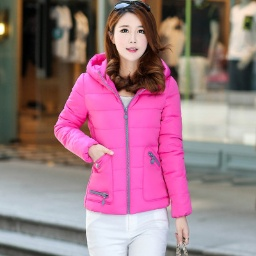face: (99, 2, 173, 70)
